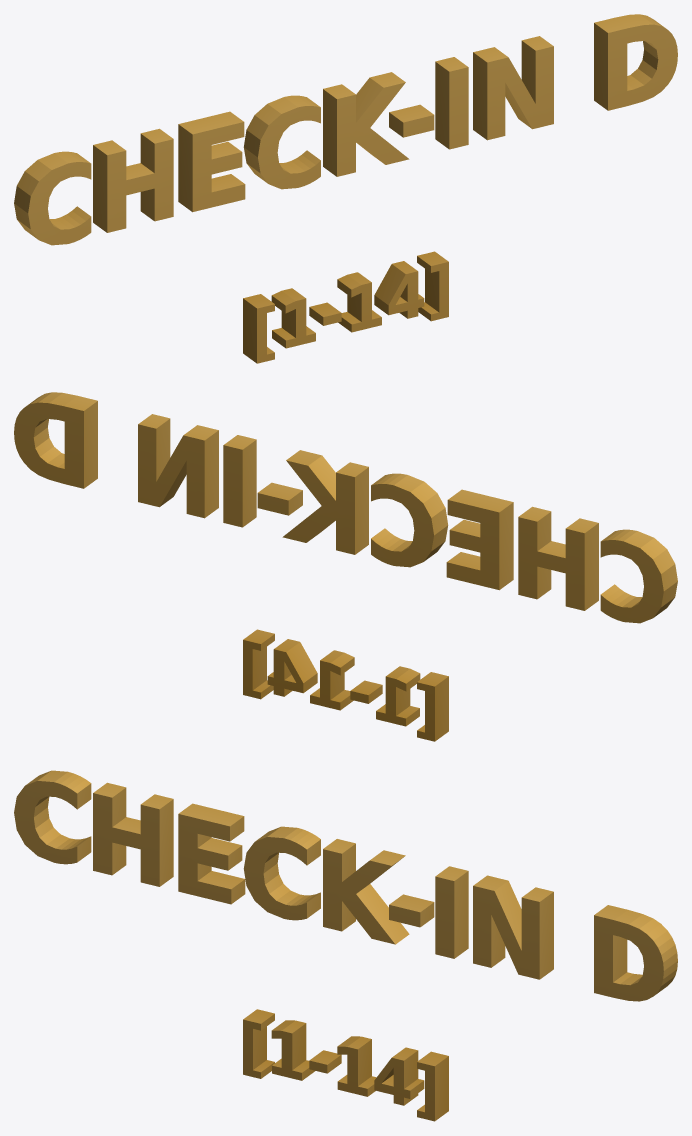
Rendered from CHECK_IN_D_1_14.glb.
3 views of the same model, one above another, from view 1: azimuth 30°, elevation 25°; view 2: azimuth 150°, elevation 25°; view 3: azimuth 330°, elevation 25° (orthographic).
Parts seen in each view (by area): view 1: world; view 2: world; view 3: world.
Part boxes in pixels (x1=…): world: x1=14, y1=14, x2=677, y2=363; world: x1=14, y1=392, x2=677, y2=741; world: x1=14, y1=770, x2=677, y2=1121.
Size of the model in its own units: 15.4 by 5.58 by 0.5797.
